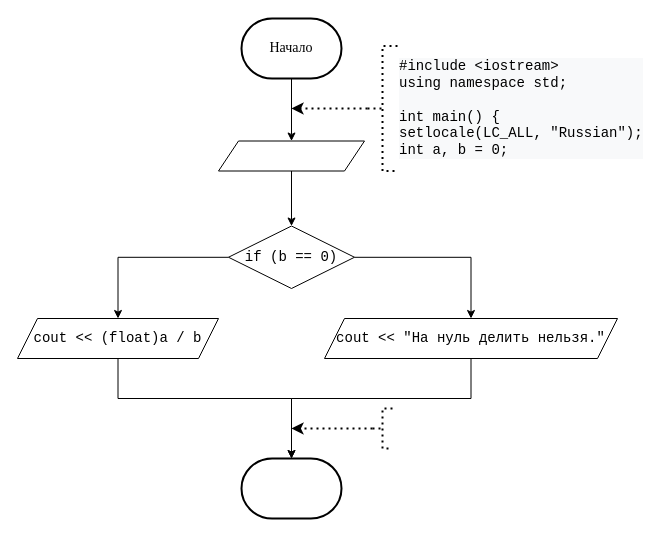
Image size: 661x536. Some labels were removed from this diagram. Here are the shapes that lost their labels. From the top down, the box of each, then its label:
(218, 140, 364, 171): cin >> a >> b;
(371, 407, 393, 449): return 0;
(240, 457, 342, 519): Конец
